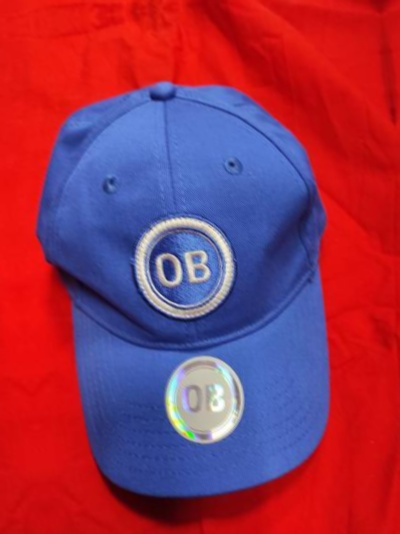Hat: (17, 59, 362, 511), (0, 100, 24, 534)
